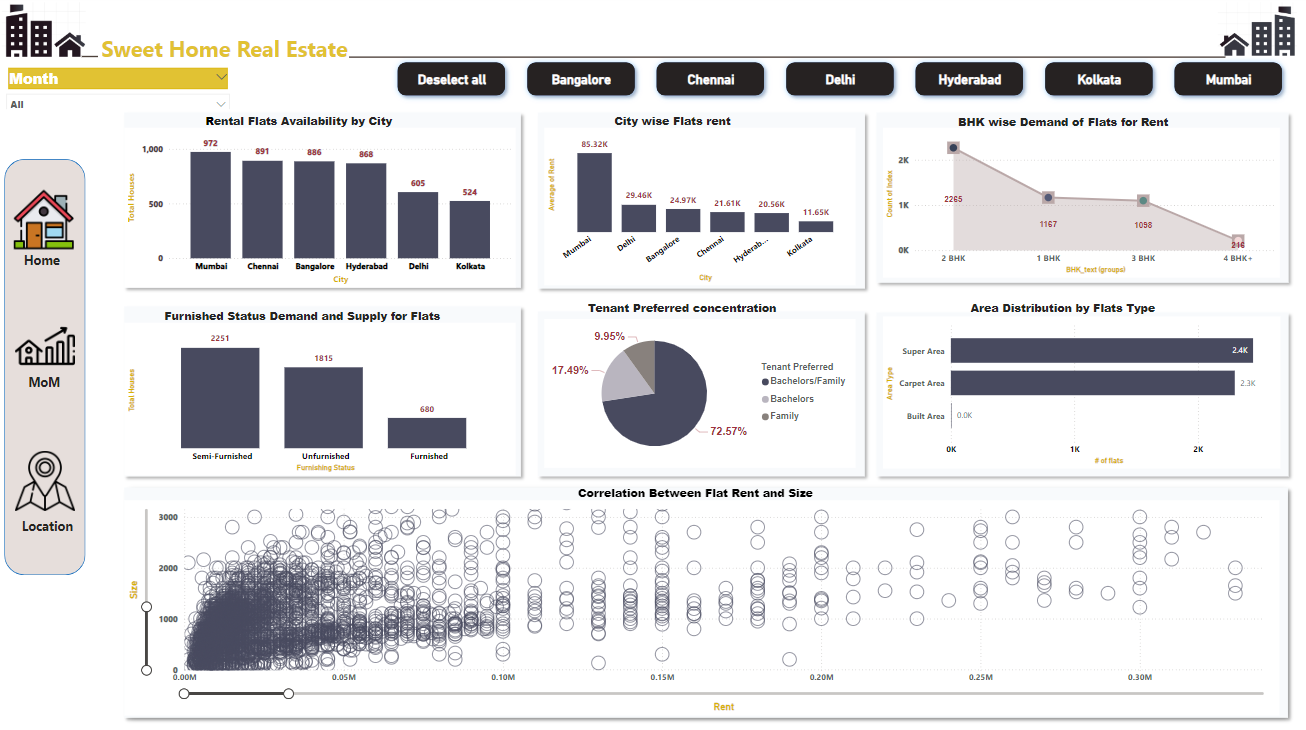

The dashboard page shown, as its layout file describes it:
{"tool":"powerbi","page":{"name":"Home","canvas":[1920,1080],"ordinal":0},"visuals":[{"type":"image","title":"MoM_bw","box":[20.8,460.4,97.5,97.5],"z":0,"group":"g3"},{"type":"shape","box":[183.3,710,1718.3,353.3],"z":0},{"type":"image","title":"house_color","box":[18.1,273.4,97.5,100],"z":1000,"group":"g2"},{"type":"shape","box":[1280,450.5,622.1,257.9],"z":1000},{"type":"image","title":"Map_bw","box":[19.8,658,97.5,97.5],"z":1000,"group":"g4"},{"type":"shape","box":[176.3,708.2,1725.8,355.7],"z":2000},{"type":"shape","box":[175.9,441.4,600,267.2],"z":3000},{"type":"shape","box":[783.2,157.9,497.9,275.8],"z":4000},{"type":"shape","box":[783,449.6,497.4,259.7],"z":5000},{"type":"shape","box":[175.8,157.9,600,274.7],"z":6000},{"type":"clusteredColumnChart","fields":{"Category":["House_Rent_Dataset.City"],"Y":["Count(House_Rent_Dataset.Index)"]},"box":[185.3,188.9,574.1,234.8],"z":7000},{"type":"clusteredColumnChart","fields":{"Category":["House_Rent_Dataset.Furnishing Status"],"Y":["Count(House_Rent_Dataset.Index)"]},"box":[184.5,475.9,574.1,224.1],"z":8000},{"type":"textbox","box":[304.5,166.9,374.2,36.7],"z":9000},{"type":"shape","box":[1280,157.9,622.1,267.4],"z":10000},{"type":"stackedAreaChart","fields":{"Category":["House_Rent_Dataset.BHK_text (groups)"],"Y":["Count(House_Rent_Dataset.Index)"]},"box":[1298.9,188.4,582.1,220],"z":11000},{"type":"textbox","box":[243.8,453.1,460.9,29.7],"z":12000},{"type":"textbox","box":[1408.7,168.8,350.3,33],"z":13000},{"type":"textbox","box":[865.8,442.1,315.5,34.9],"z":14000},{"type":"pieChart","fields":{"Category":["House_Rent_Dataset.Tenant Preferred"],"Y":["Count(House_Rent_Dataset.Index)"]},"box":[801.9,470.1,456.5,218.8],"z":15000},{"type":"image","box":[0,0,133.9,89.9],"z":16000},{"type":"textbox","box":[146.7,46.5,399.9,55],"z":17000},{"type":"image","box":[1775.6,0,144.9,88],"z":18000},{"type":"clusteredColumnChart","fields":{"Category":["House_Rent_Dataset.City"],"Y":["Avg(House_Rent_Dataset.Rent)"]},"box":[801.6,188.9,456.7,231.1],"z":19000},{"type":"scatterChart","fields":{"X":["House_Rent_Dataset.Rent"],"Y":["House_Rent_Dataset.Size"]},"box":[185.9,735.9,1695.3,315.6],"z":20000},{"type":"shape","box":[515.4,80.7,1285.8,9.2],"z":21000},{"type":"shape","box":[122.9,78.9,23.8,11],"z":22000},{"type":"textbox","box":[904.3,166.9,277,38.5],"z":23000},{"type":"barChart","fields":{"Category":["House_Rent_Dataset.Area Type"],"Y":["House_Rent_Dataset.AreaTypeCount"]},"box":[1298.9,465.3,583.2,223.2],"z":24000},{"type":"advancedSlicerVisual","fields":{"Values":["House_Rent_Dataset.City"]},"box":[575,81.2,1326.6,73.4],"z":25000},{"type":"group","id":"g1","title":"leftMenu","box":[9.3,234.6,119.2,610.7],"z":26000},{"type":"slicer","fields":{"Values":["House_Rent_Dataset.Posted On.Variation.Date Hierarchy.Month"]},"box":[7.8,101.6,337.5,60.9],"z":27000},{"type":"textbox","box":[1427,442.1,315.5,33],"z":28000},{"type":"shape","title":"leftMenuBox","box":[9.3,234.6,119.2,610.7],"z":28125,"group":"g1"},{"type":"textbox","title":"location","box":[18.3,755.7,108.2,42.2],"z":28187,"group":"g1"},{"type":"textbox","title":"Home","box":[9.6,365.2,110,42.5],"z":28250,"group":"g1"},{"type":"textbox","title":"MoM","box":[13.3,545.4,110,42.5],"z":28500,"group":"g1"},{"type":"textbox","box":[851.1,713.5,407.2,45.9],"z":29000},{"type":"group","id":"g2","title":"House","box":[18.1,273.2,99,100.2],"z":30000,"group":"g1"},{"type":"group","id":"g3","title":"MoM","box":[20.8,457.8,99.4,100.1],"z":31000,"group":"g1"},{"type":"group","id":"g4","title":"Map","box":[19.8,658,99.4,100.9],"z":32000,"group":"g1"}]}

Visuals, with their boxes in screenshot pixels (x1, y1, x2, y2), scaled from the page's 1920x1080 canvas onto the 1306x730 screenshot:
"MoM_bw" image: [x1=14, y1=311, x2=80, y2=377]
shape: [x1=125, y1=480, x2=1293, y2=719]
"house_color" image: [x1=12, y1=185, x2=79, y2=252]
shape: [x1=871, y1=305, x2=1294, y2=479]
"Map_bw" image: [x1=13, y1=445, x2=80, y2=511]
shape: [x1=120, y1=479, x2=1294, y2=719]
shape: [x1=120, y1=298, x2=528, y2=479]
shape: [x1=533, y1=107, x2=871, y2=293]
shape: [x1=533, y1=304, x2=871, y2=479]
shape: [x1=120, y1=107, x2=528, y2=292]
clusteredColumnChart - House_Rent_Dataset.City x Count(House_Rent_Dataset.Index): [x1=126, y1=128, x2=517, y2=286]
clusteredColumnChart - House_Rent_Dataset.Furnishing Status x Count(House_Rent_Dataset.Index): [x1=125, y1=322, x2=516, y2=473]
textbox: [x1=207, y1=113, x2=462, y2=138]
shape: [x1=871, y1=107, x2=1294, y2=287]
stackedAreaChart - House_Rent_Dataset.BHK_text (groups) x Count(House_Rent_Dataset.Index): [x1=884, y1=127, x2=1279, y2=276]
textbox: [x1=166, y1=306, x2=479, y2=326]
textbox: [x1=958, y1=114, x2=1196, y2=136]
textbox: [x1=589, y1=299, x2=804, y2=322]
pieChart - House_Rent_Dataset.Tenant Preferred x Count(House_Rent_Dataset.Index): [x1=545, y1=318, x2=856, y2=466]
image: [x1=0, y1=0, x2=91, y2=61]
textbox: [x1=100, y1=31, x2=372, y2=69]
image: [x1=1208, y1=0, x2=1305, y2=59]
clusteredColumnChart - House_Rent_Dataset.City x Avg(House_Rent_Dataset.Rent): [x1=545, y1=128, x2=856, y2=284]
scatterChart - House_Rent_Dataset.Rent x House_Rent_Dataset.Size: [x1=126, y1=497, x2=1280, y2=711]
shape: [x1=351, y1=55, x2=1225, y2=61]
shape: [x1=84, y1=53, x2=100, y2=61]
textbox: [x1=615, y1=113, x2=804, y2=139]
barChart - House_Rent_Dataset.Area Type x House_Rent_Dataset.AreaTypeCount: [x1=884, y1=315, x2=1280, y2=465]
advancedSlicerVisual - House_Rent_Dataset.City: [x1=391, y1=55, x2=1293, y2=104]
"leftMenu" group: [x1=6, y1=159, x2=87, y2=571]
slicer - House_Rent_Dataset.Posted On.Variation.Date Hierarchy.Month: [x1=5, y1=69, x2=235, y2=110]
textbox: [x1=971, y1=299, x2=1185, y2=321]
"leftMenuBox" shape: [x1=6, y1=159, x2=87, y2=571]
"location" textbox: [x1=12, y1=511, x2=86, y2=539]
"Home" textbox: [x1=7, y1=247, x2=81, y2=276]
"MoM" textbox: [x1=9, y1=369, x2=84, y2=397]
textbox: [x1=579, y1=482, x2=856, y2=513]
"House" group: [x1=12, y1=185, x2=80, y2=252]
"MoM" group: [x1=14, y1=309, x2=82, y2=377]
"Map" group: [x1=13, y1=445, x2=81, y2=513]
